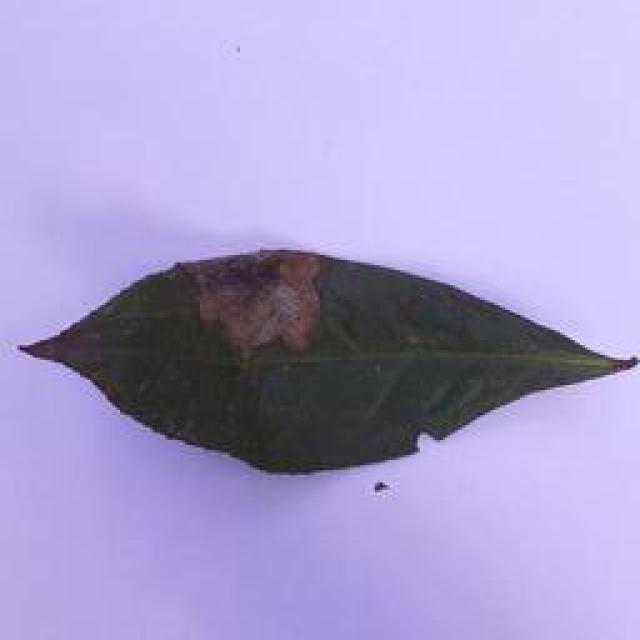Gray Blight: (0, 227, 638, 487)
